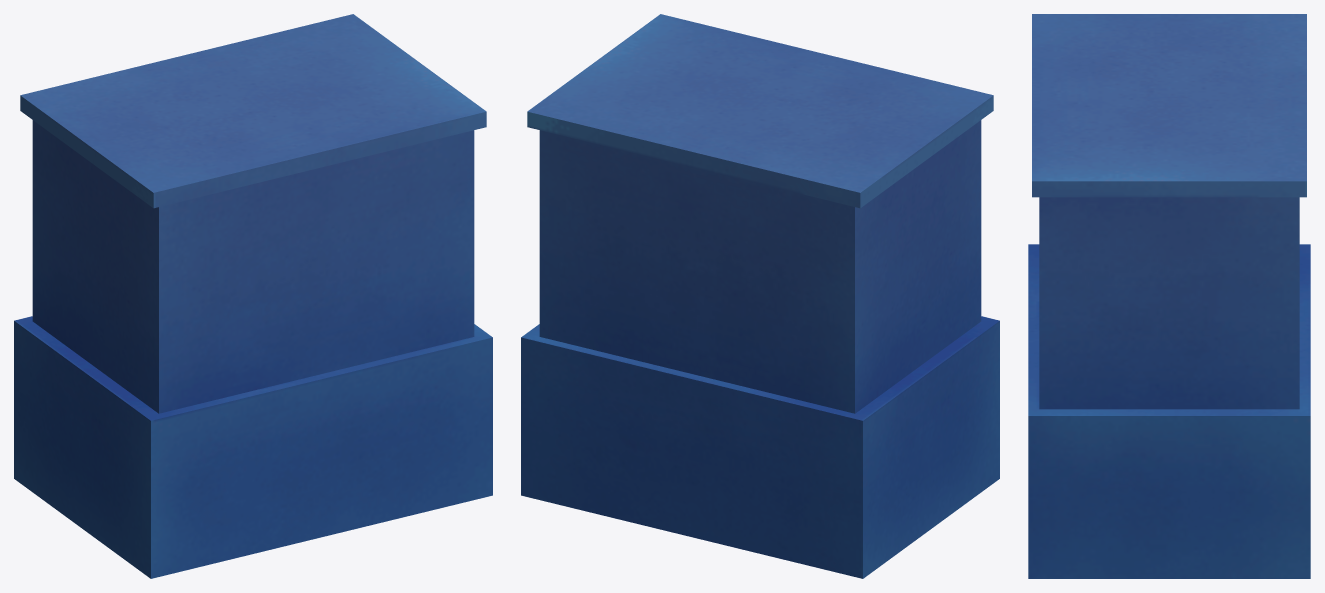
Rendered from Palace_1.glb.
The picture shows the model from 3 angles, left to right: view 1: azimuth 30°, elevation 25°; view 2: azimuth 150°, elevation 25°; view 3: azimuth 270°, elevation 25°; orthographic projection. The views are drawn at different scales.
Parts seen in each view (by area): view 1: Palace_1; view 2: Palace_1; view 3: Palace_1.
Boxes of the visible parts, x1,y1,x2,y2 form: Palace_1: (14,14,492,578); Palace_1: (521,14,999,578); Palace_1: (1028,14,1310,578).
Size of the model in its own units: 0.7022 by 0.7529 by 0.4869.
Materials: 1 (1 with a texture image).
